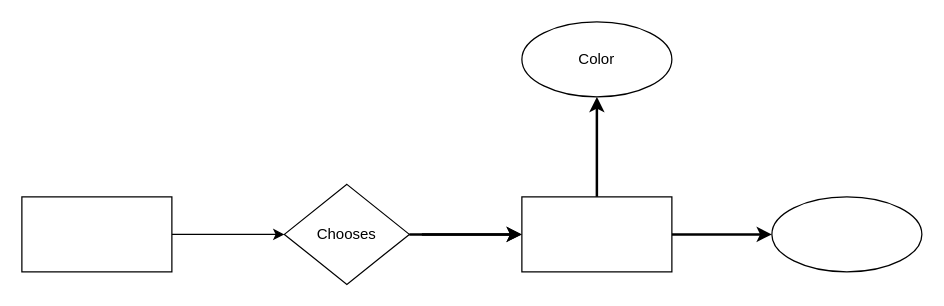
Image size: 944x306. Some labels were removed from this diagram. Here are the shapes that lost their labels. From the top down, the box of each, then its label:
(21, 196, 172, 272): Customer
(521, 196, 672, 272): Wine
